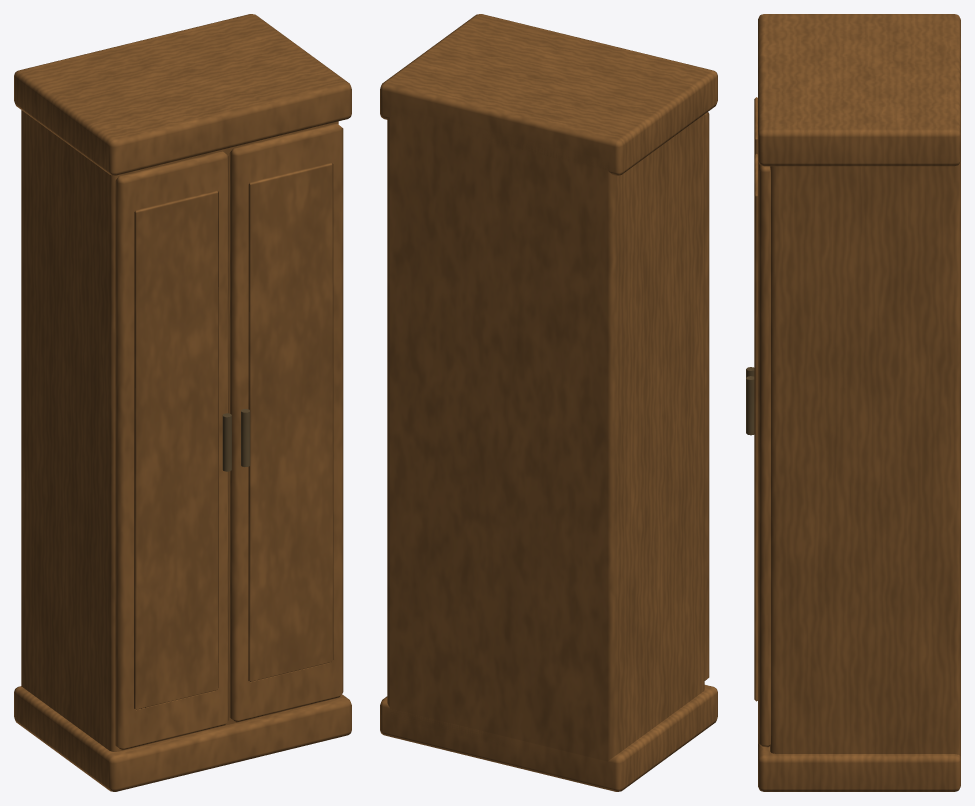
Rendered from Furn_Wardrobe.fbx.
The picture shows the model from 3 angles, left to right: view 1: azimuth 30°, elevation 25°; view 2: azimuth 150°, elevation 25°; view 3: azimuth 270°, elevation 25°; orthographic projection.
Parts seen in each view (by area): view 1: Furn_Wardrobe_Mesh; view 2: Furn_Wardrobe_Mesh; view 3: Furn_Wardrobe_Mesh.
Part boxes in pixels (box(x1,y1,x2,y2)): Furn_Wardrobe_Mesh: box(14, 14, 351, 791); Furn_Wardrobe_Mesh: box(380, 14, 717, 791); Furn_Wardrobe_Mesh: box(746, 14, 960, 791).
Size of the model in its own units: 0.7 by 1.8 by 0.529.
2 materials, 2 textured.
